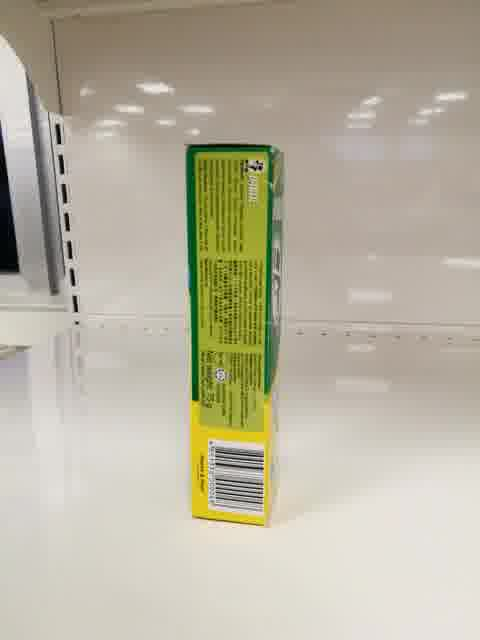toothpaste: (184, 143, 285, 528)
